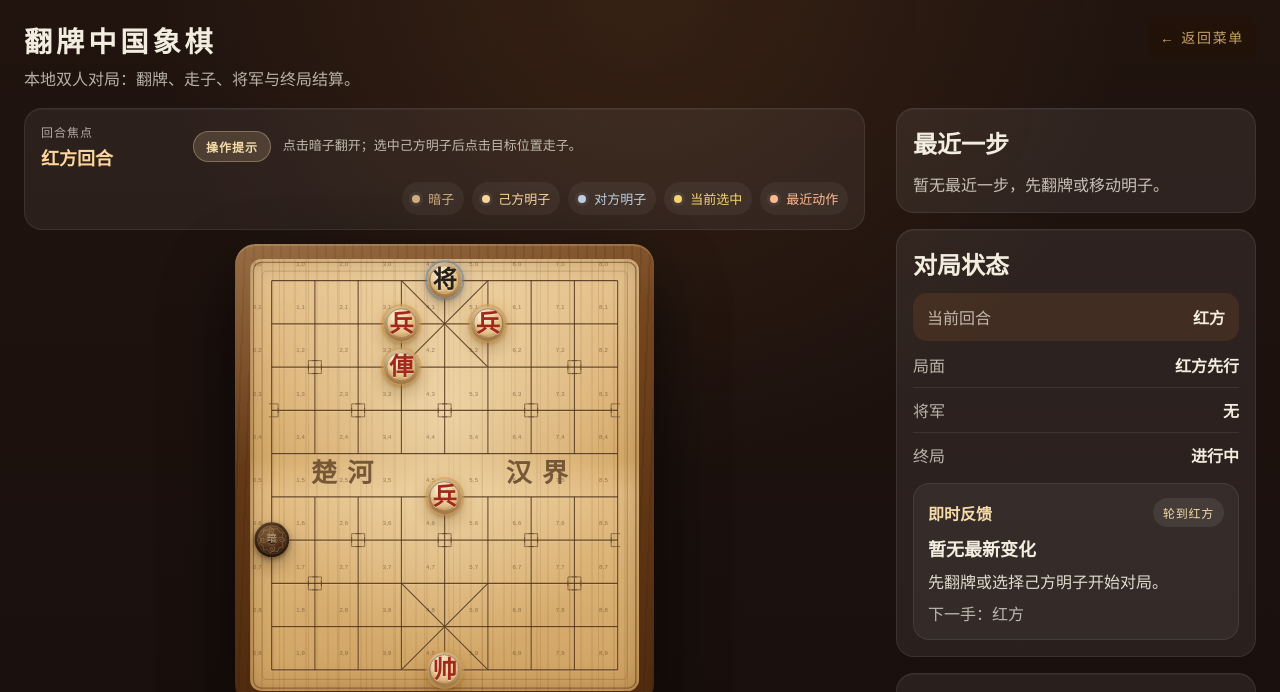
Test: app flow › plays the mating move from an ongoing game and settles the checkmate result
The image size is (1280, 692).
Click the button with test id "cell-3-2": (401, 367) [380,345,423,388]
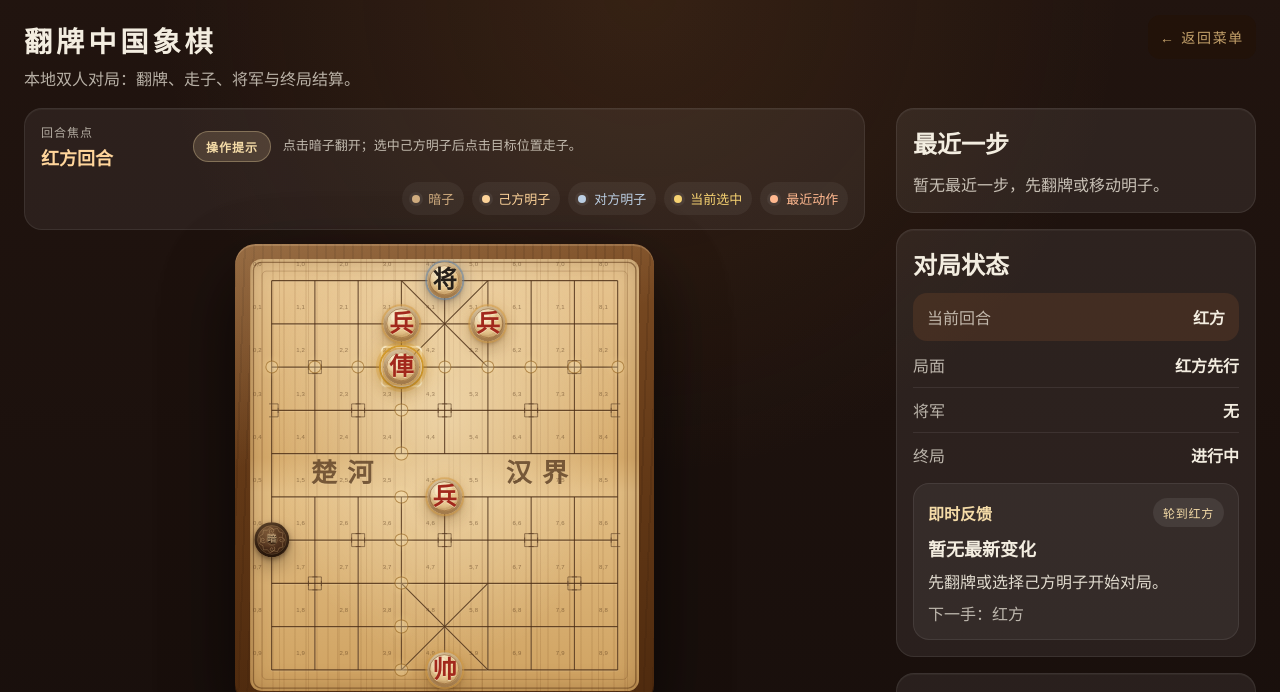
Click the button with test id "cell-4-2": (445, 367) [423,345,466,388]
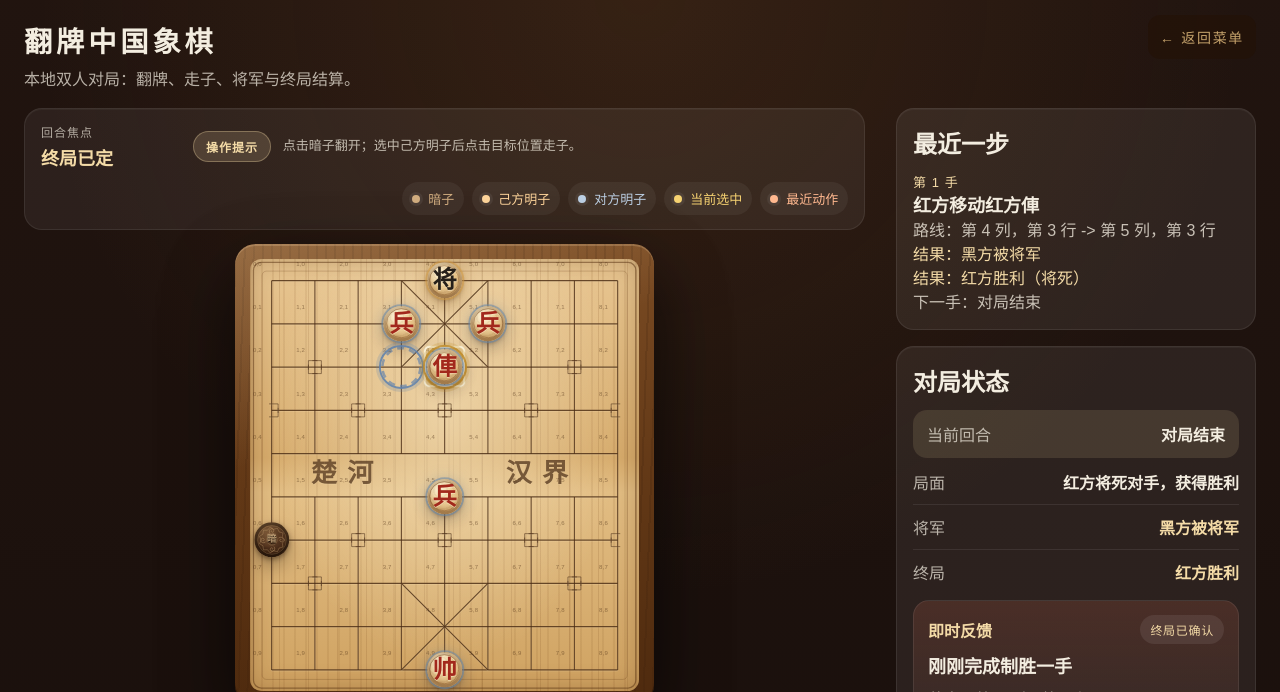
Expected: the button with test id "cell-4-2" shows "俥", [423,345,466,388]
Expected: the text "对局结束" is shown, [1161,422,1225,446]
Expected: the text "红方将死对手，获得胜利" is shown, [1063,470,1239,494]
Click the button with test id "cell-0-6": (272, 540) [250,518,293,562]
(page scrolled)
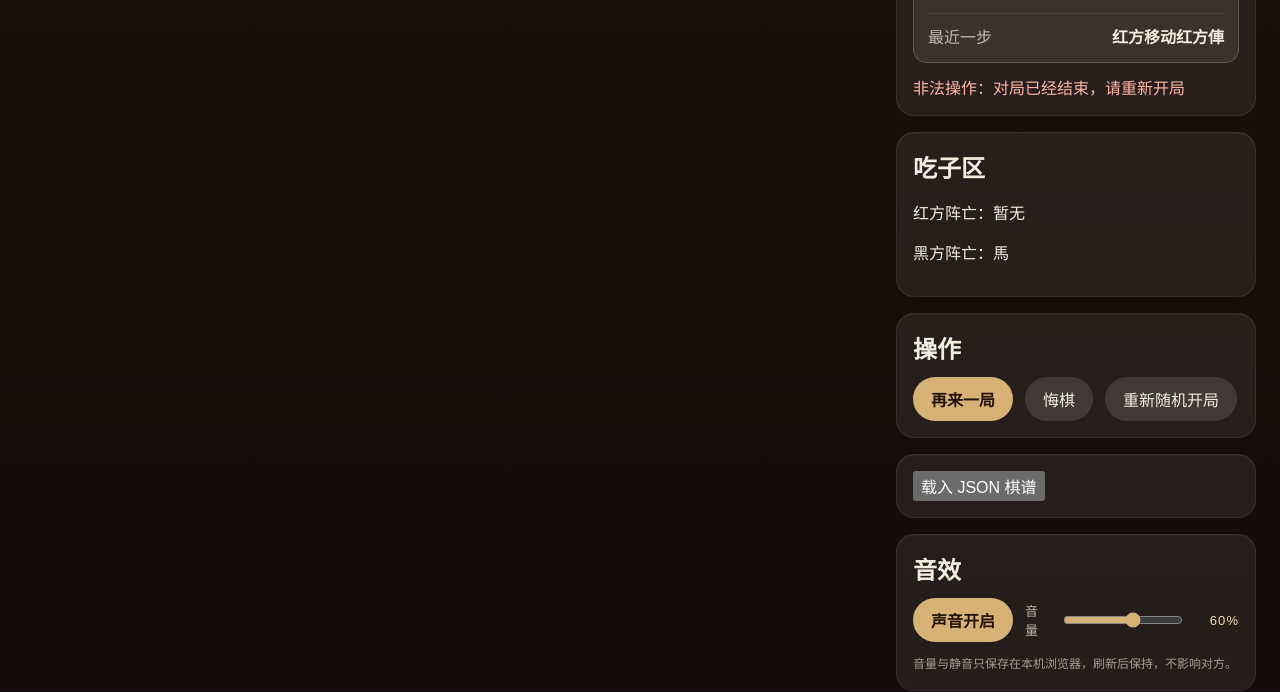
Expected: the text "非法操作：对局已经结束，请重新开局" is shown, [913,80,1185,97]
Click the button "再来一局": (963, 399) [913,377,1013,421]
(page scrolled)
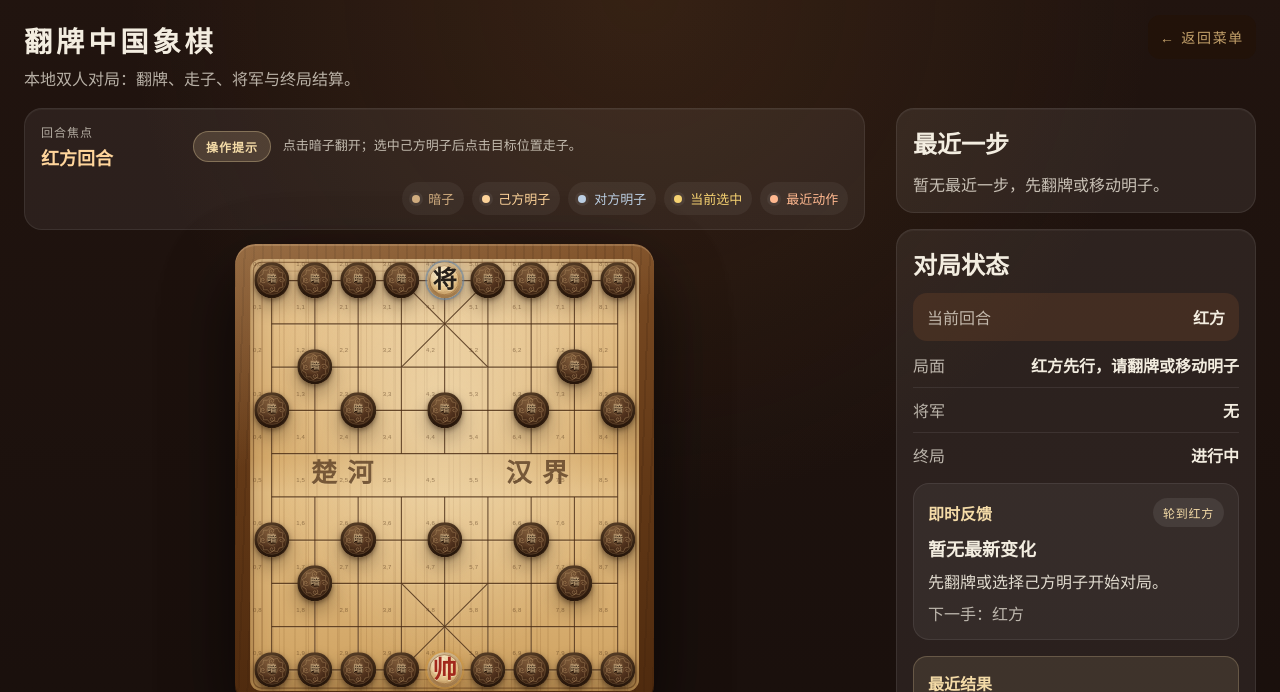
Expected: the text "当前回合" is shown, [927,305,991,329]
Expected: the text "红方" is shown, [1193,305,1225,329]
